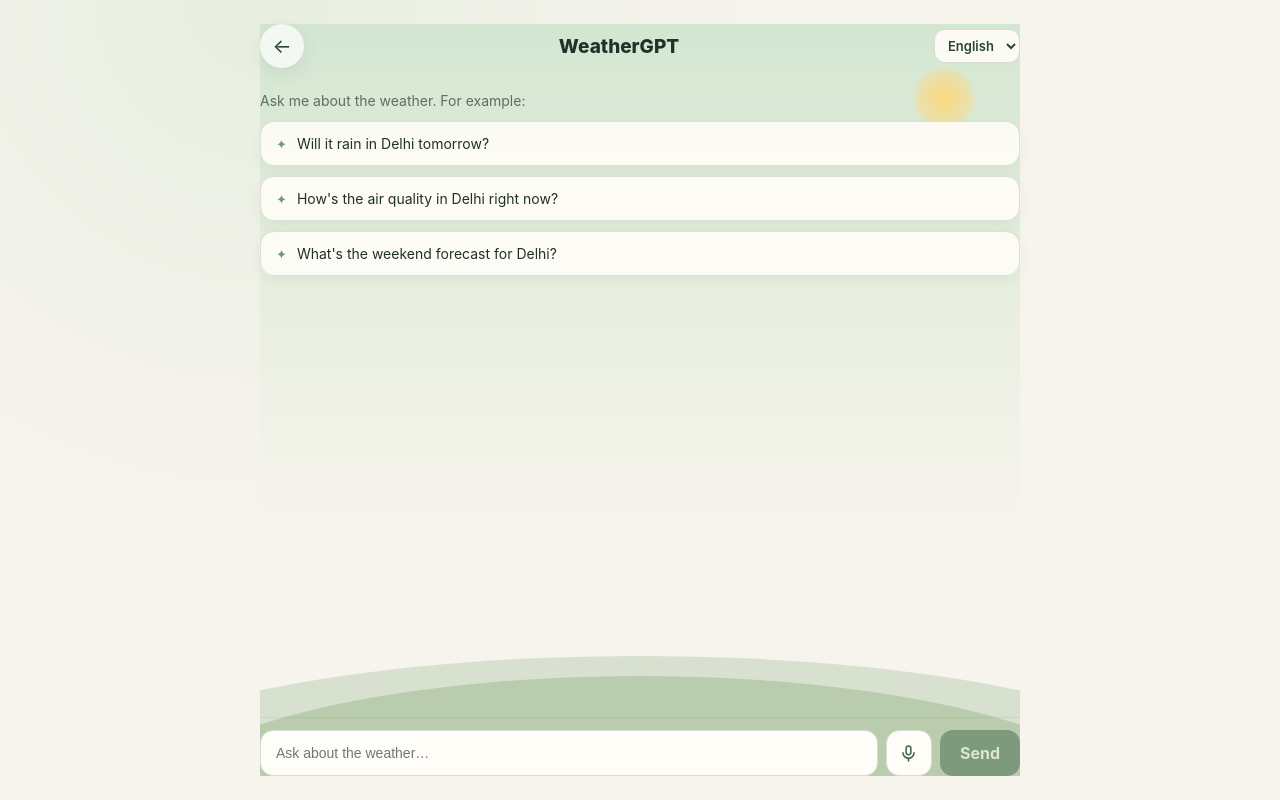
Scenario: sends the selected language to the chat endpoint
Type "weather in Delhi" into the field named "Your question" at (569, 753), box [260,730,878,776]
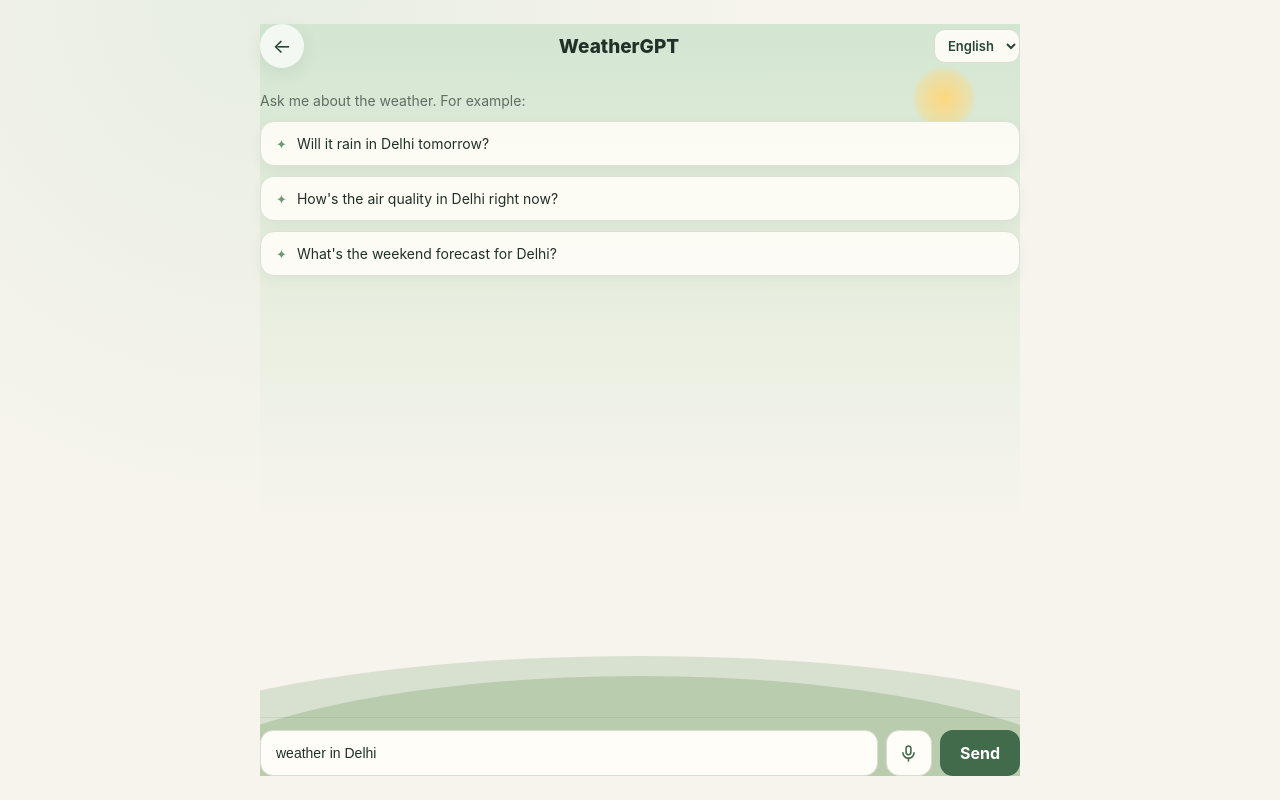
Select "हिन्दी" in the dropdown named "Answer language" at (977, 46), box [934,29,1020,63]
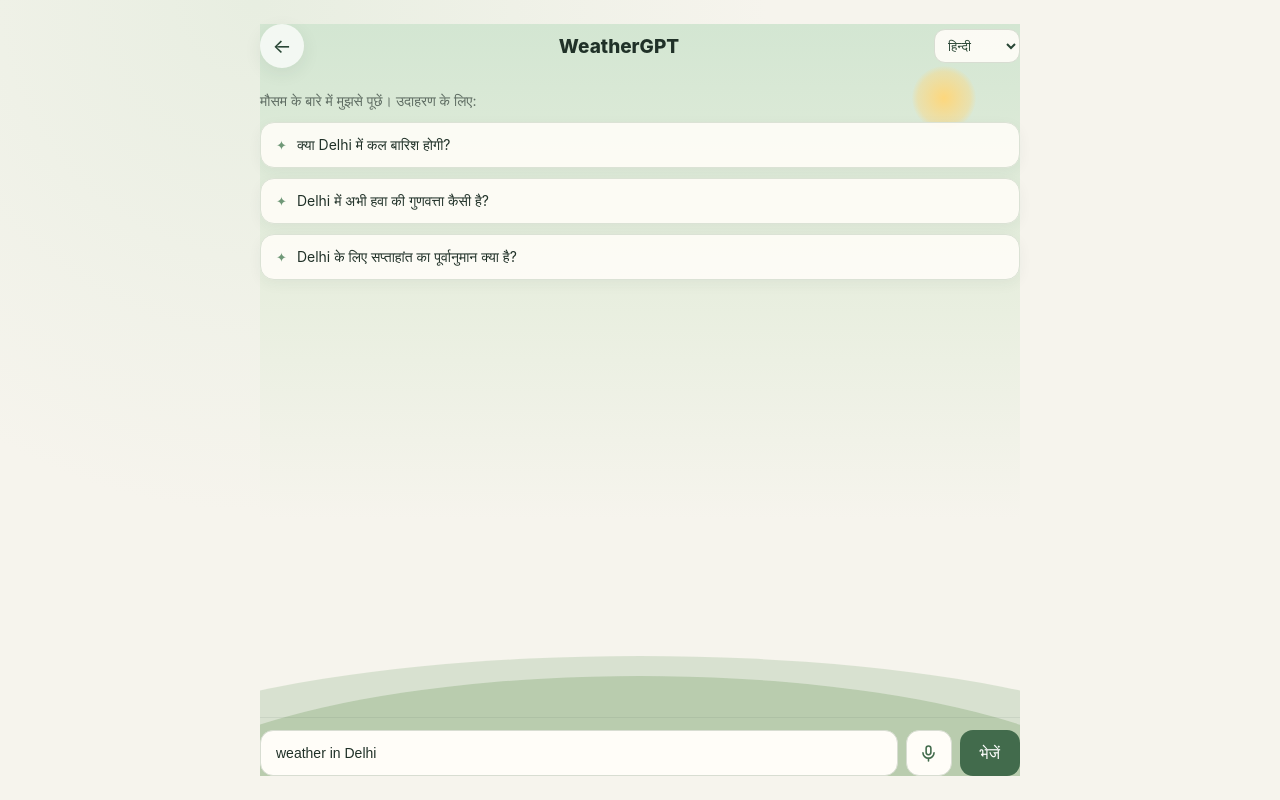
Click the button named "Send" at (990, 753), box [960,730,1020,776]
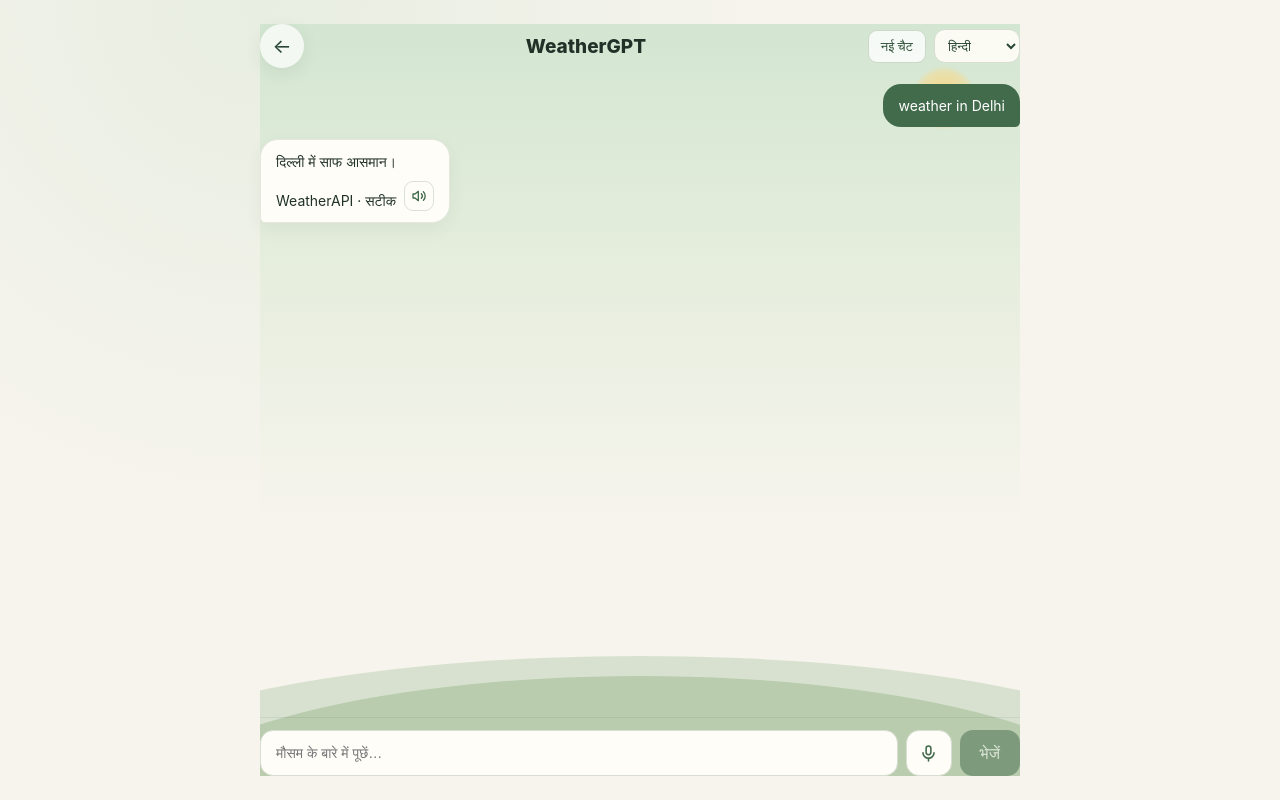
Check: the text "दिल्ली में साफ आसमान।" is shown, box [276,153,396,170]
